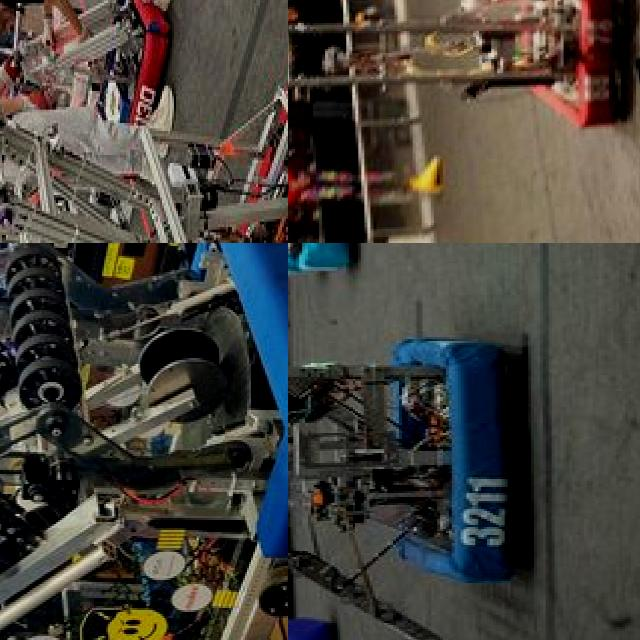FRC-Robots: (0, 243, 288, 640), (288, 276, 598, 640), (0, 24, 288, 243), (288, 0, 640, 107)
